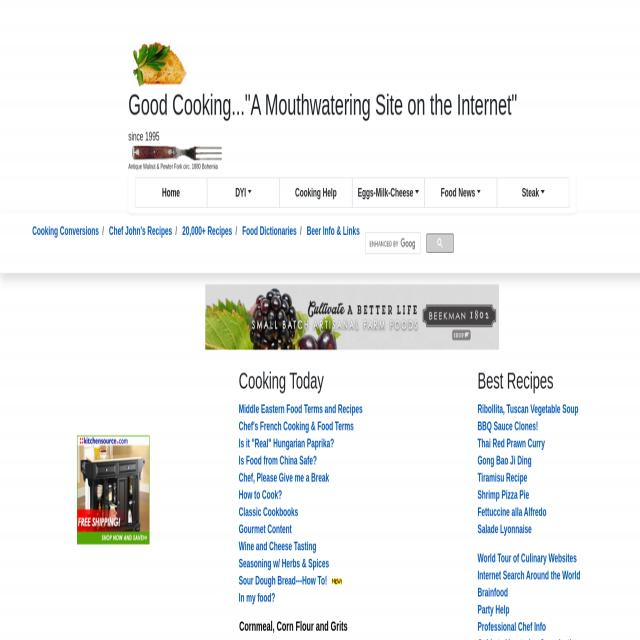button: (206, 284, 500, 349), (77, 436, 149, 544), (132, 41, 189, 88), (135, 177, 207, 208), (280, 177, 352, 208), (352, 178, 425, 208), (207, 178, 279, 208), (497, 178, 569, 208), (424, 178, 498, 207), (132, 145, 222, 161), (426, 235, 454, 252), (331, 578, 343, 586)
field: (366, 234, 421, 255)
